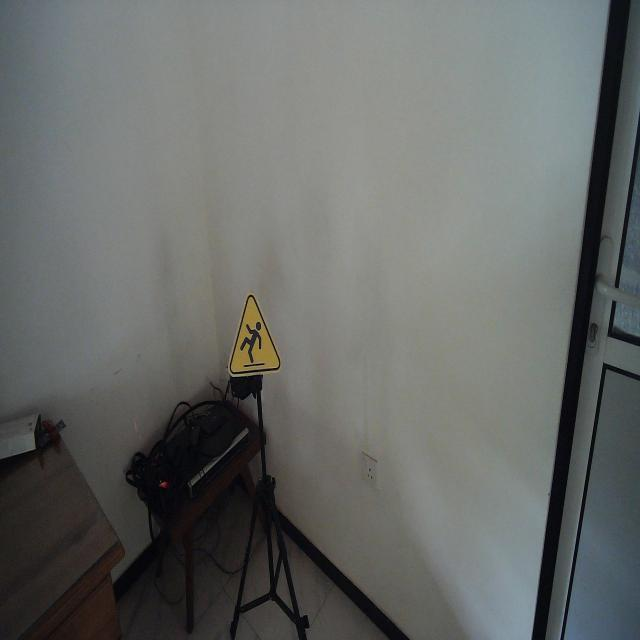slippery_sign: (226, 291, 283, 382)
